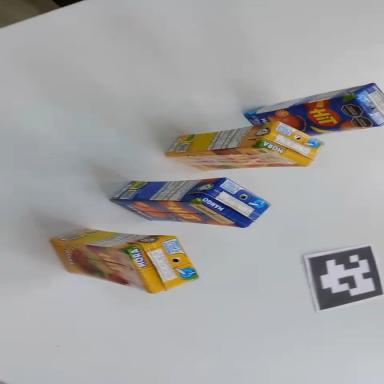HIT-MANGO: (109, 172, 270, 229), (242, 81, 384, 145)
HIT-MORA: (47, 226, 201, 297), (165, 119, 324, 171)
cara_F: (244, 92, 381, 143), (45, 239, 157, 293), (168, 143, 307, 173), (108, 200, 244, 228)
